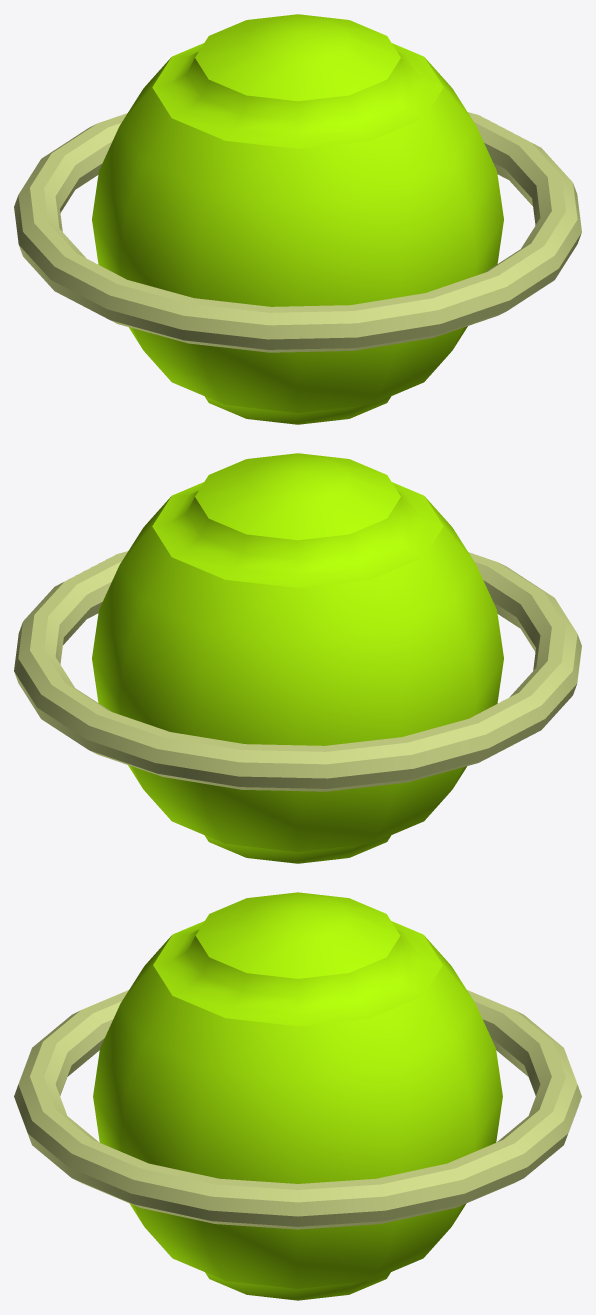
Rendered from baliza_off.glb.
The picture shows the model from 3 angles, top to bottom: view 1: azimuth 30°, elevation 25°; view 2: azimuth 150°, elevation 25°; view 3: azimuth 270°, elevation 25°; orthographic projection.
Visible parts, largest first — view 1: node_Baliza_on_art, node_Look_here_detail; view 2: node_Baliza_on_art, node_Look_here_detail; view 3: node_Baliza_on_art, node_Look_here_detail.
Boxes of the visible parts, x1=… form: node_Baliza_on_art: x1=92, y1=14, x2=503, y2=424; node_Look_here_detail: x1=14, y1=112, x2=581, y2=352; node_Baliza_on_art: x1=92, y1=453, x2=503, y2=863; node_Look_here_detail: x1=14, y1=551, x2=581, y2=791; node_Baliza_on_art: x1=93, y1=892, x2=502, y2=1300; node_Look_here_detail: x1=14, y1=990, x2=581, y2=1229.
Bounding box in the file's own units: 0.1372 × 0.099 × 0.1372.
